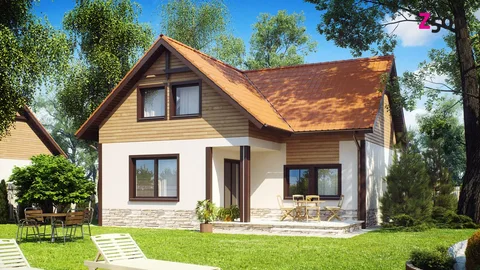private_hause: (94, 35, 398, 230)
